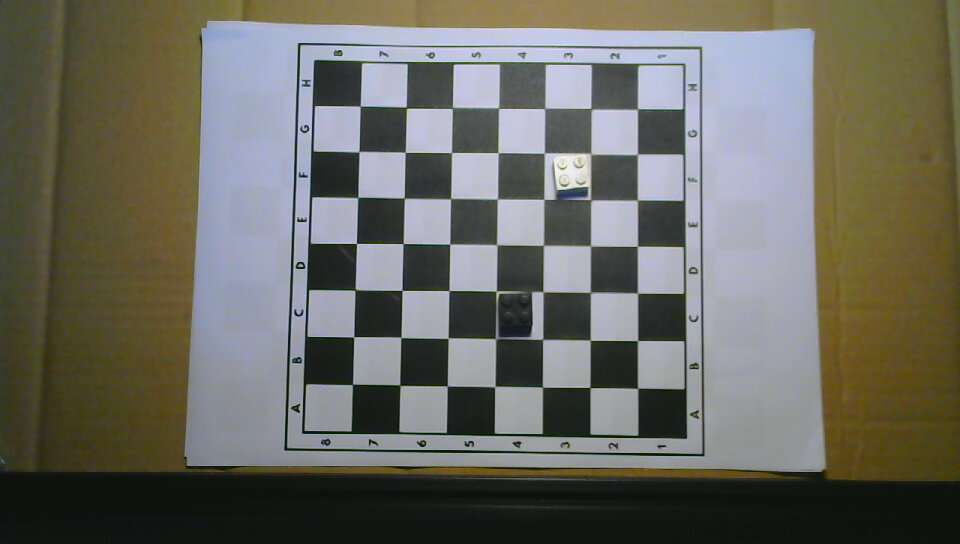bp: (497, 291, 534, 331)
wp: (553, 153, 590, 195)
